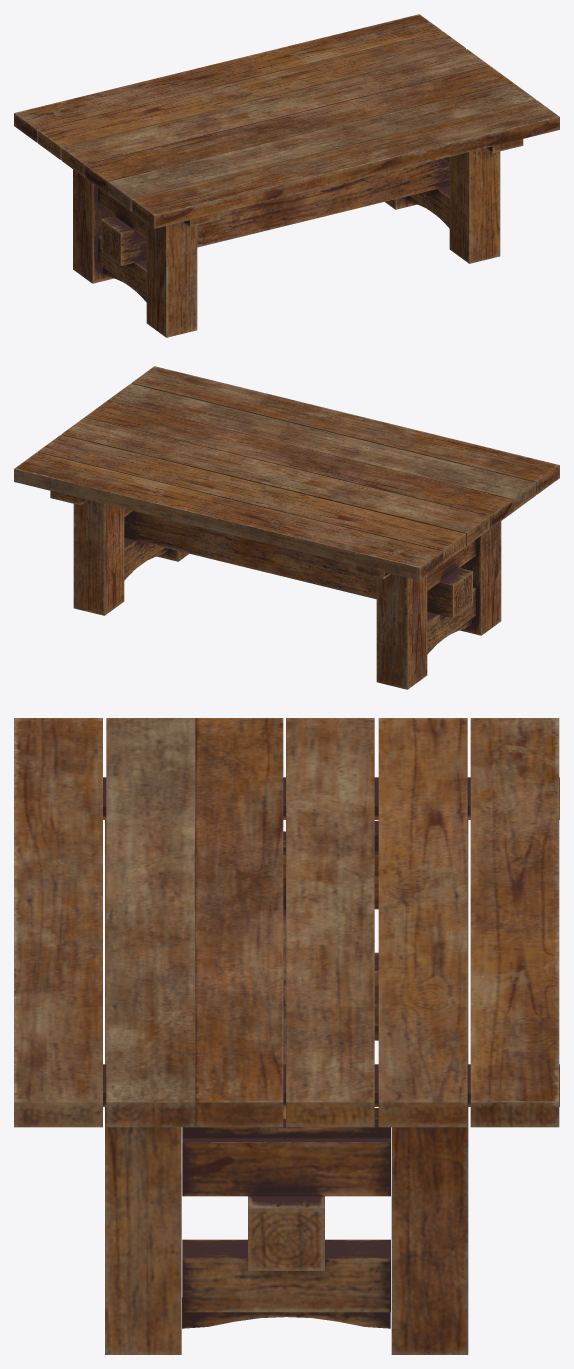
Rendered from wood_table.glb.
3 renders of one model, top to bottom at view 1: azimuth 30°, elevation 25°; view 2: azimuth 150°, elevation 25°; view 3: azimuth 270°, elevation 25°, orthographic. The views are drawn at different scales.
Visible parts, largest first — view 1: Object_2; view 2: Object_2; view 3: Object_2.
Boxes of the visible parts, bbox=[...] form: Object_2: bbox=[14, 14, 559, 337]; Object_2: bbox=[14, 366, 559, 689]; Object_2: bbox=[14, 718, 559, 1354].
Size of the model in its own units: 2.47 by 0.8601 by 1.48.
1 material, 1 textured.
